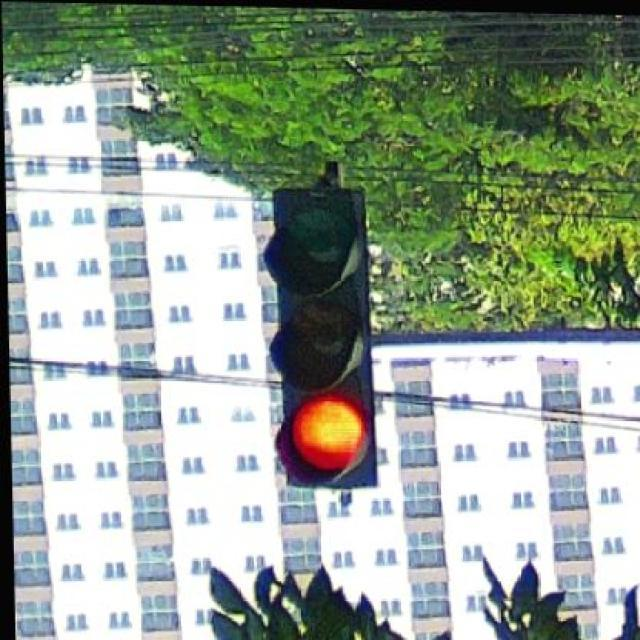traffic light: (263, 187, 379, 491)
